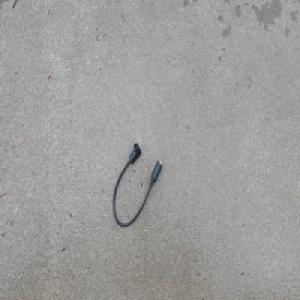Wire: (111, 141, 162, 229)
